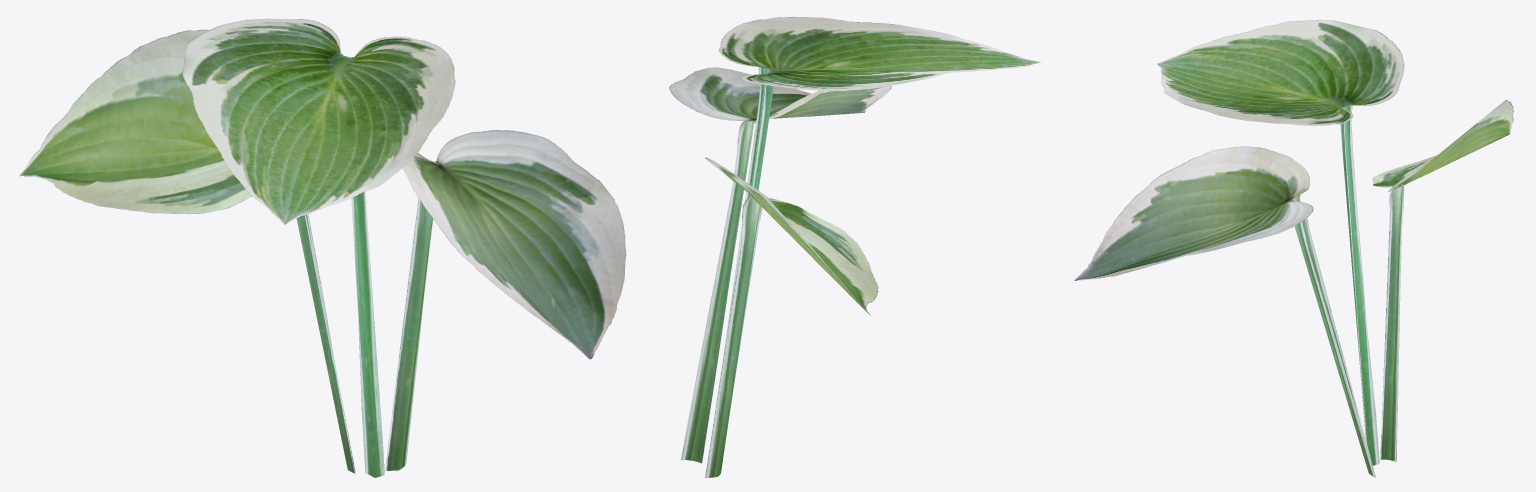
File: plant_small_wg_00_fillerB.fbx
3 views of the same model, side by side, from view 1: azimuth 30°, elevation 25°; view 2: azimuth 150°, elevation 25°; view 3: azimuth 270°, elevation 25° (orthographic). The views are drawn at different scales.
Visible parts, largest first — view 1: plant_small_wg_00_fillerB; view 2: plant_small_wg_00_fillerB; view 3: plant_small_wg_00_fillerB.
Boxes of the visible parts, left/top/right/bottom form: plant_small_wg_00_fillerB: left=19, top=18, right=626, bottom=477; plant_small_wg_00_fillerB: left=669, top=16, right=1040, bottom=477; plant_small_wg_00_fillerB: left=1074, top=19, right=1513, bottom=477.
Size of the model in its own units: 29.98 by 34.36 by 38.19.
1 material, 1 textured.
